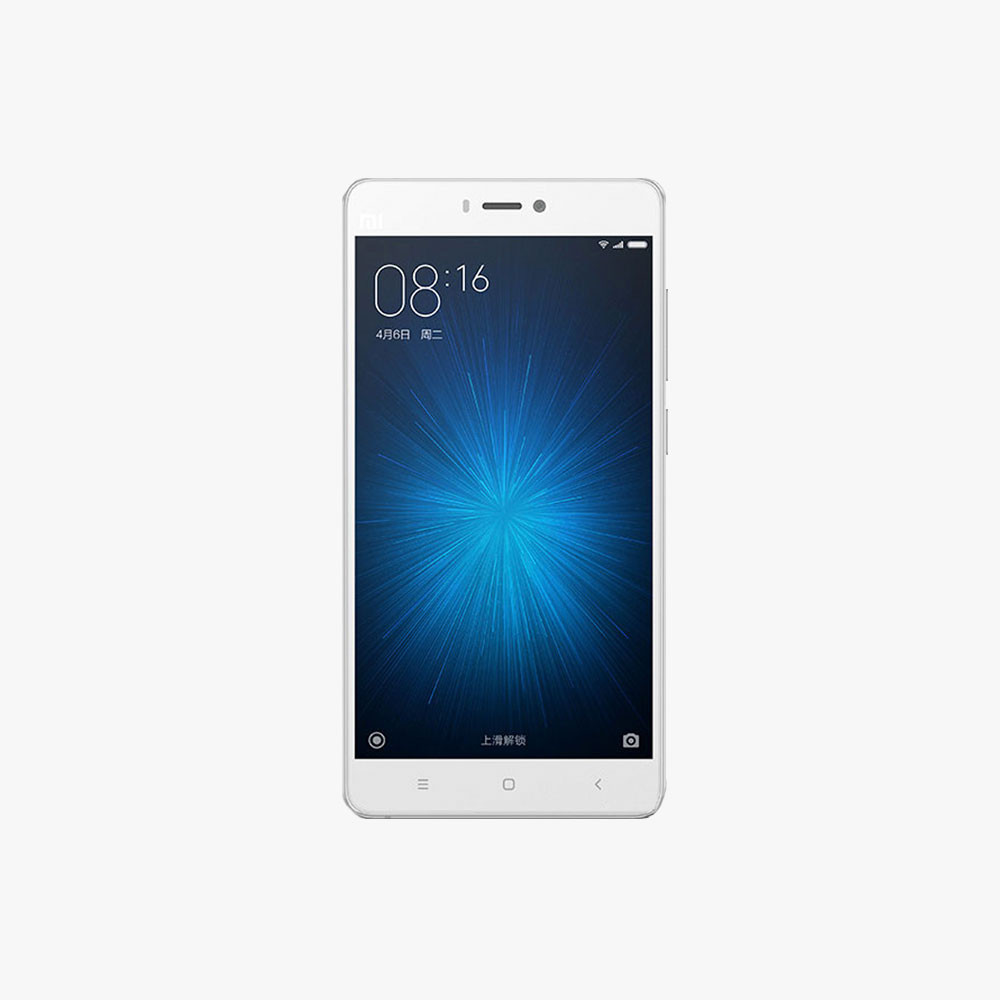smartphone: (341, 177, 669, 819)
